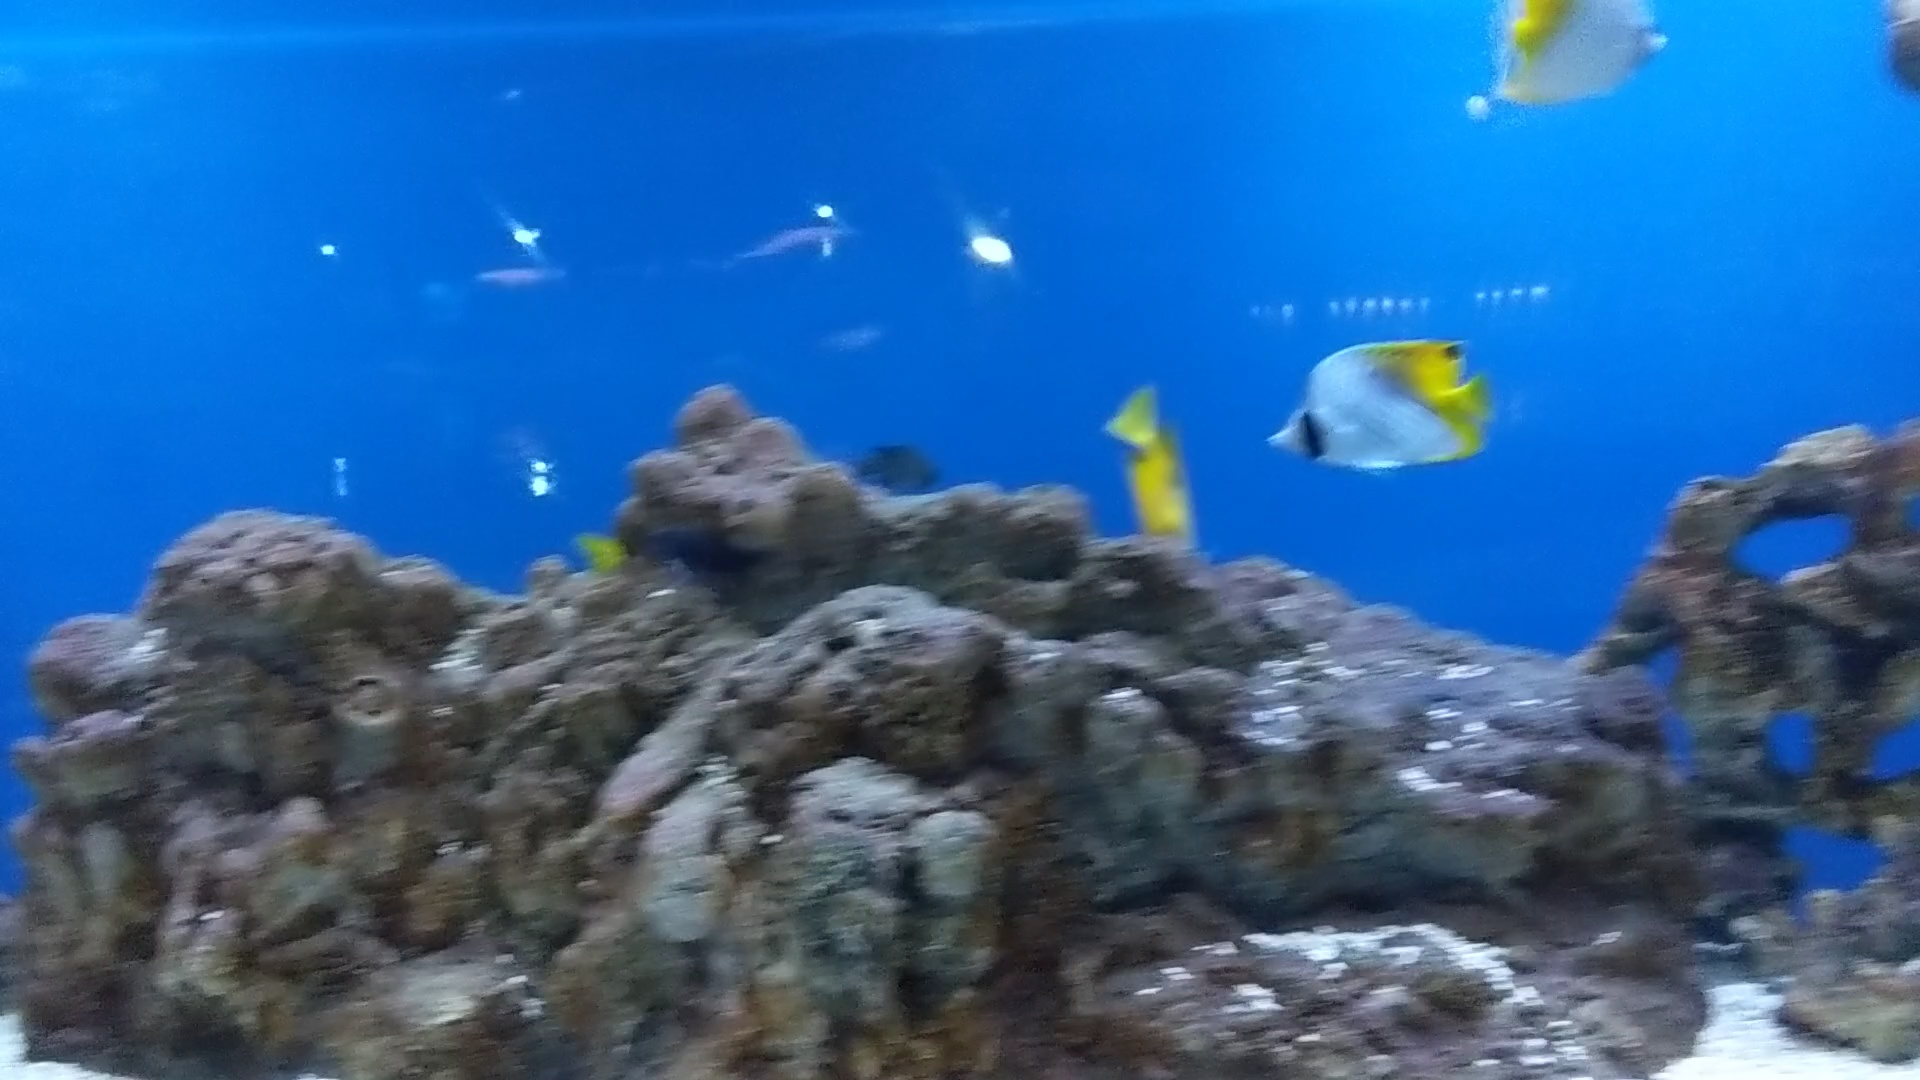butterflyfish: (1253, 324, 1497, 464), (1478, 0, 1667, 108)
rabbitfish: (1110, 375, 1191, 549)
